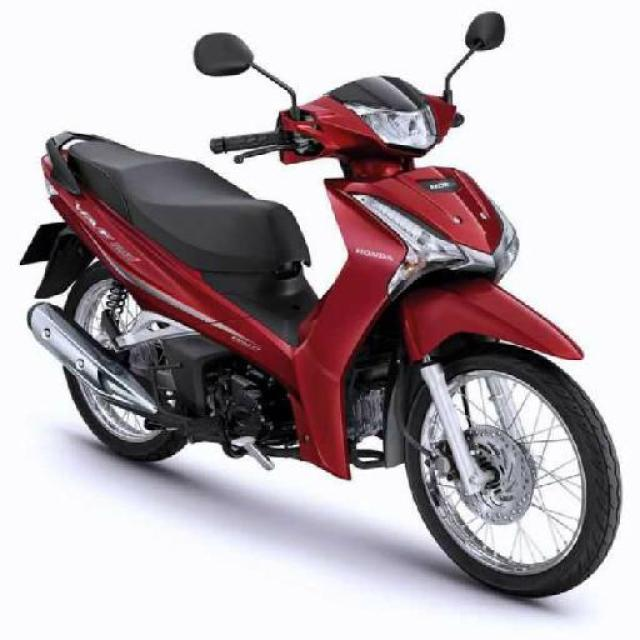All: (14, 67, 622, 599)
Head: (210, 78, 459, 164)
Tail: (33, 128, 110, 208)
